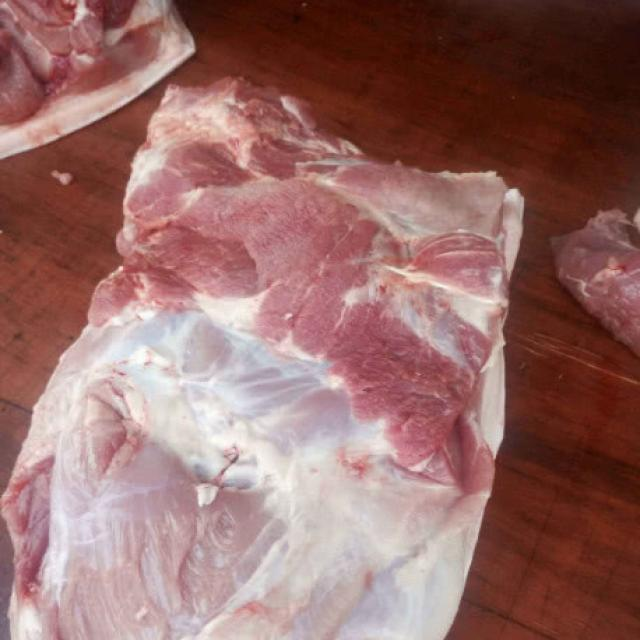Pork: (98, 178, 488, 640)
